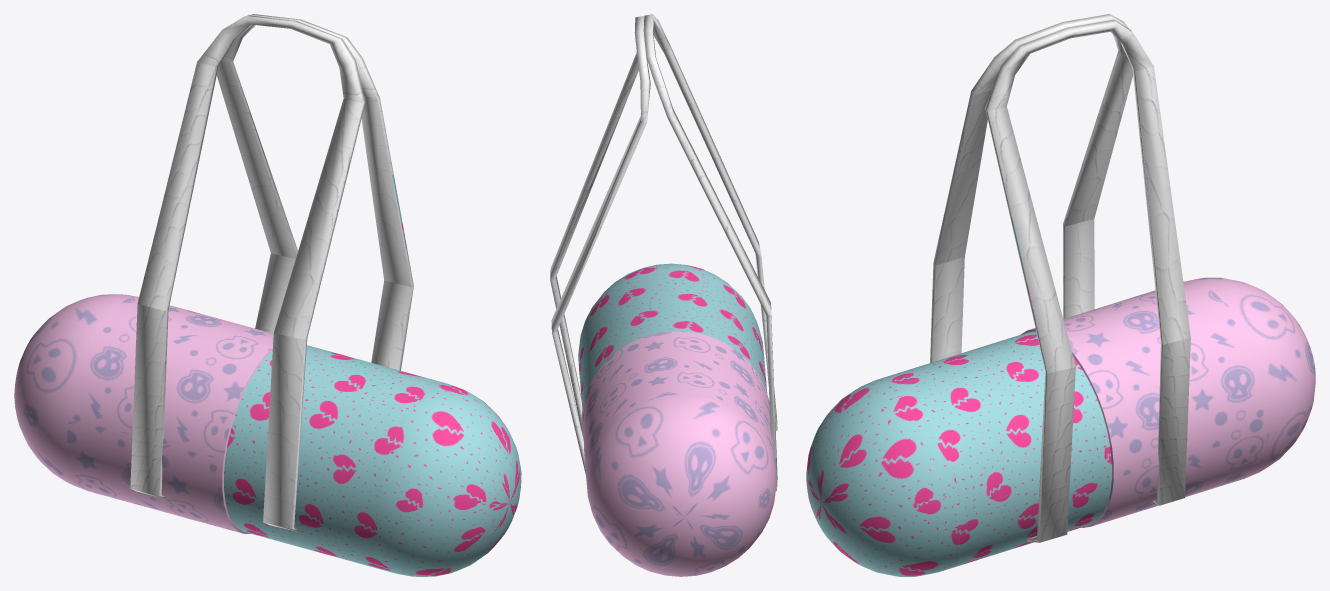
The model's file is pill.fbx.
3 views of the same model, side by side, from view 1: azimuth 30°, elevation 25°; view 2: azimuth 150°, elevation 25°; view 3: azimuth 270°, elevation 25° (orthographic). The views are drawn at different scales.
Parts seen in each view (by area): view 1: pill; view 2: pill; view 3: pill.
Part boxes in pixels (x1,y1,x2,y2): pill: (14, 14, 521, 576); pill: (550, 14, 777, 576); pill: (806, 14, 1315, 576).
Size of the model in its own units: 146 by 212 by 189.
Materials: 1 (1 with a texture image).
